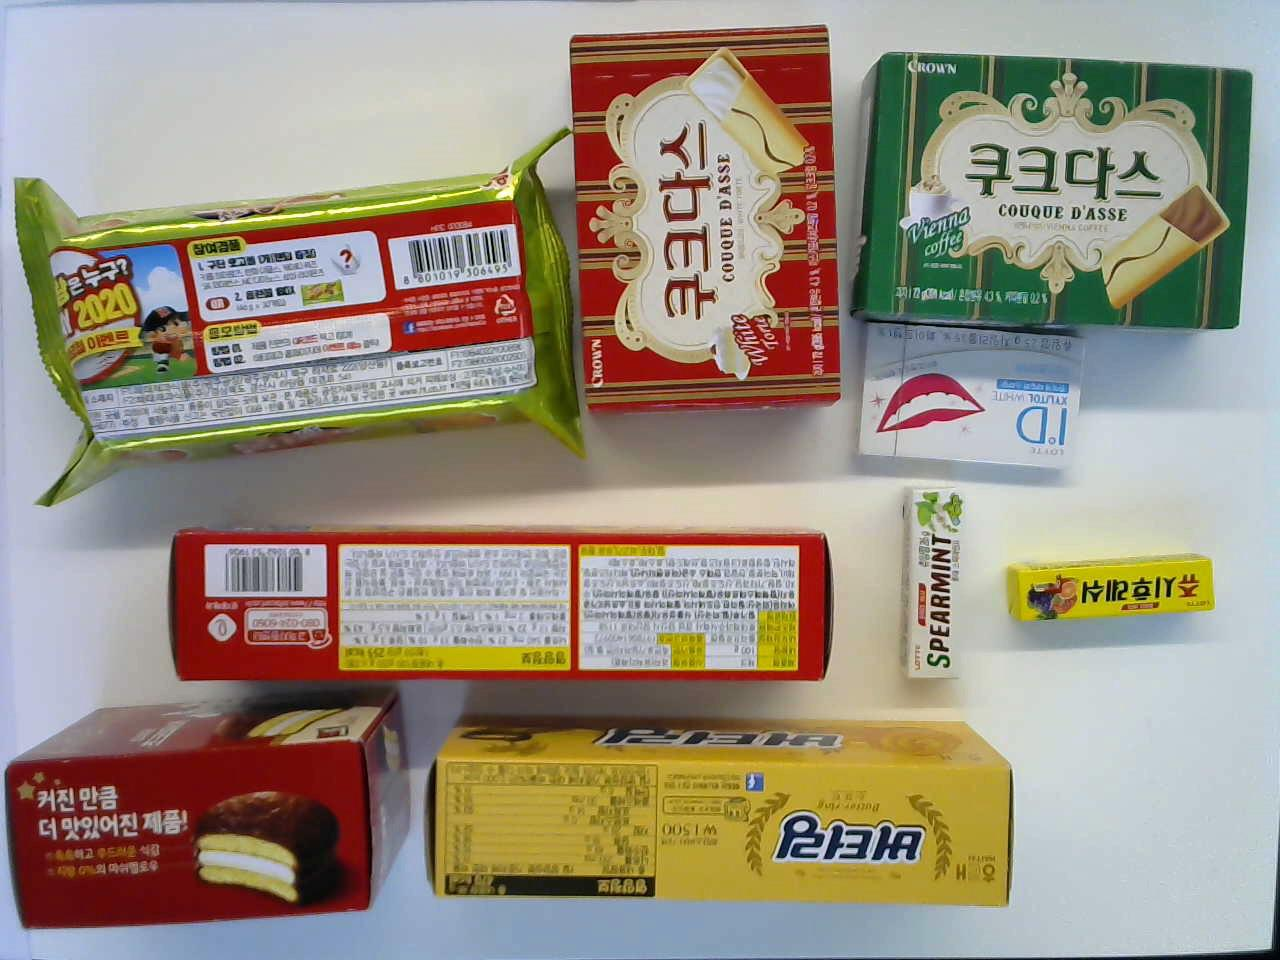ID_gum: (847, 318, 1089, 484)
buttering: (422, 711, 1018, 897)
chocopie: (5, 697, 419, 938)
couque_coffee: (848, 48, 1258, 331)
couque_white: (563, 24, 844, 401)
homerunball: (19, 138, 570, 477)
juicyfresh: (1001, 547, 1223, 638)
spearmint: (894, 472, 978, 687)
zec: (157, 526, 842, 686)
